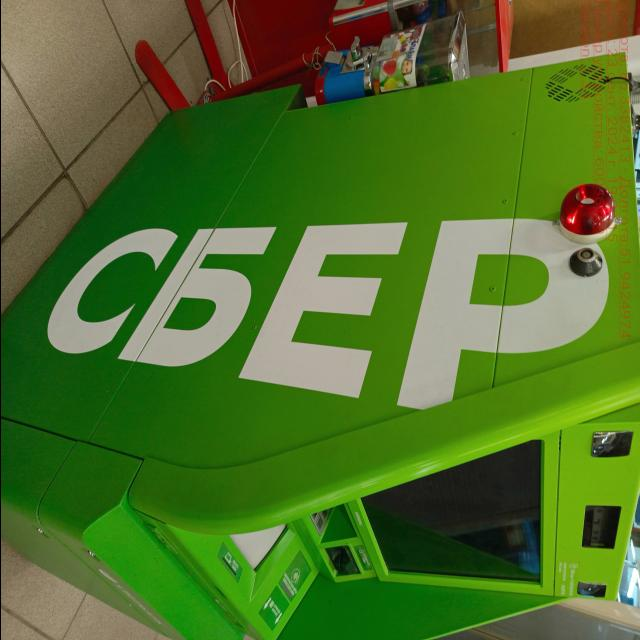bank: (0, 56, 635, 640)
